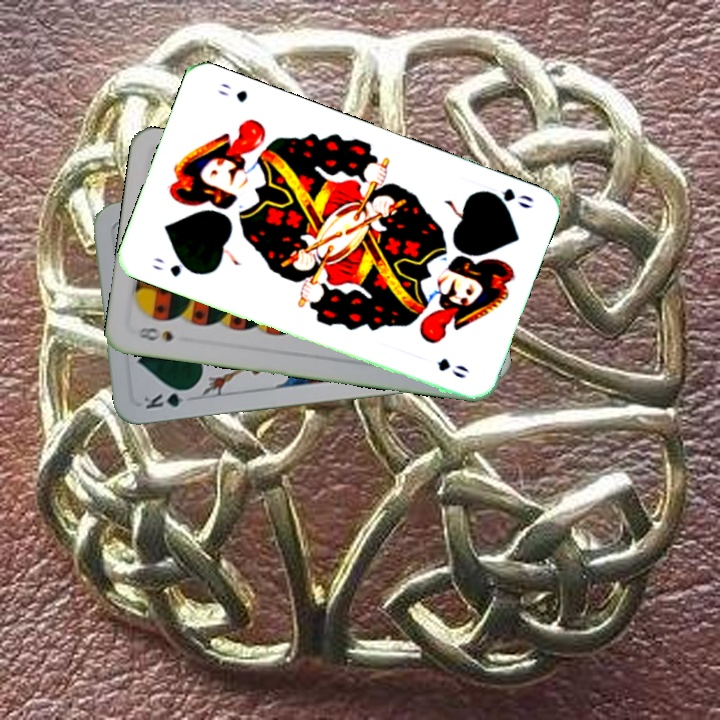GK: (139, 385, 196, 412)
GO: (477, 184, 536, 211), (148, 253, 200, 280)
S8: (134, 323, 176, 344)
